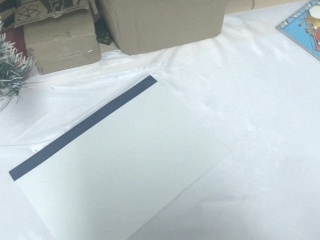book: (272, 1, 320, 95)
box: (93, 1, 231, 57), (22, 7, 101, 75)
